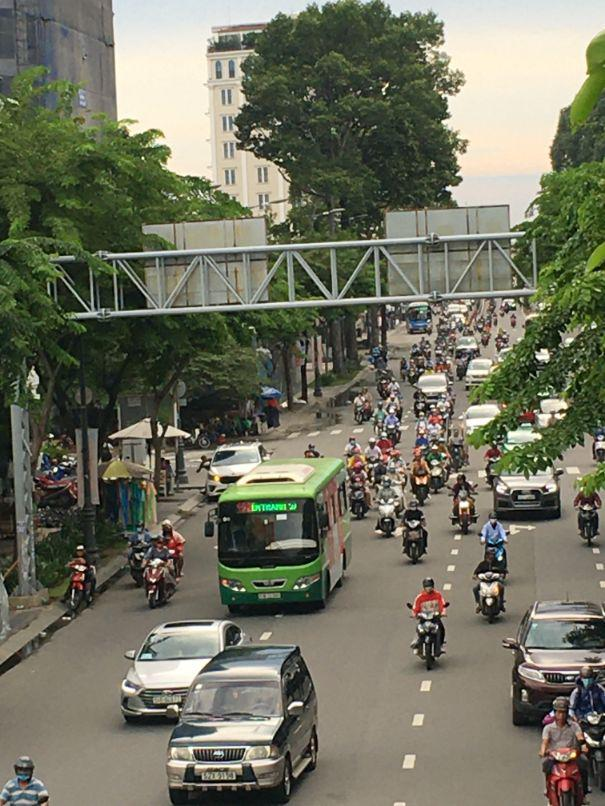bus: (214, 458, 353, 617), (406, 303, 431, 335)
car: (166, 645, 324, 805), (120, 618, 245, 726), (505, 599, 604, 729), (491, 463, 562, 523), (205, 444, 270, 491)
motorbike: (574, 713, 605, 797), (541, 748, 586, 805), (408, 611, 448, 672), (472, 560, 509, 623), (64, 550, 98, 616), (142, 556, 179, 609), (400, 512, 429, 565), (575, 489, 600, 546)
